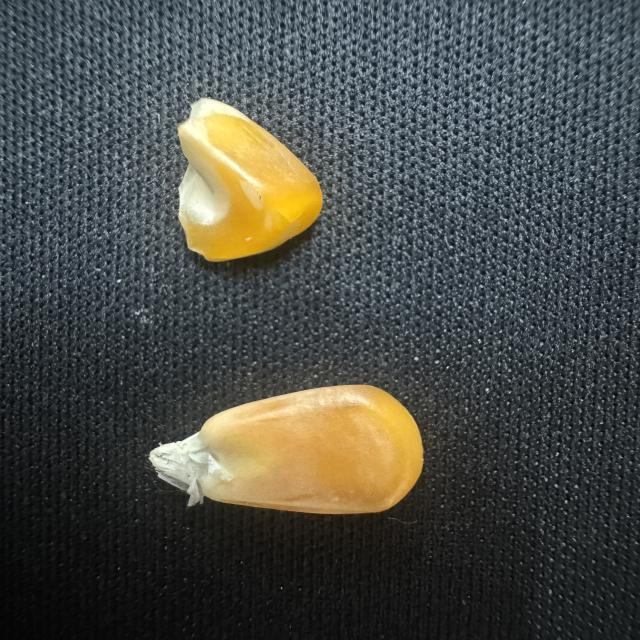Bad-Seed: (161, 97, 357, 263)
Good-Seed: (144, 375, 426, 530)
